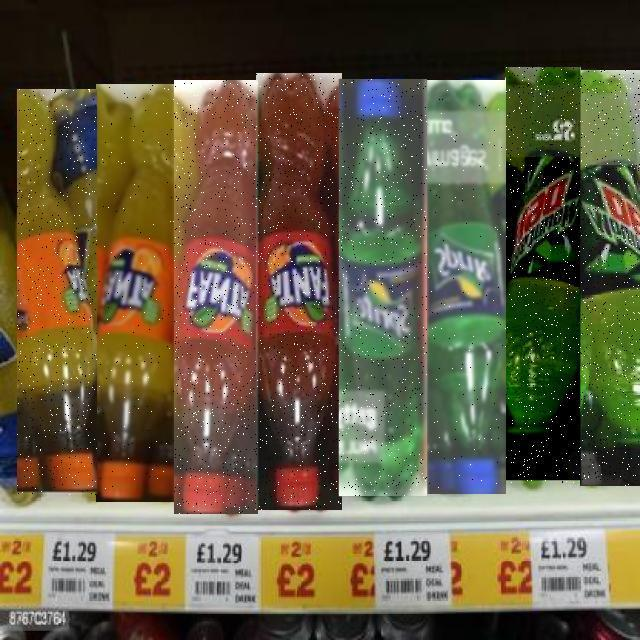Drinks: (256, 73, 342, 510), (339, 79, 427, 496), (174, 80, 258, 514), (425, 80, 507, 494), (96, 84, 175, 502), (17, 90, 97, 496), (505, 68, 581, 484), (580, 71, 640, 487)
